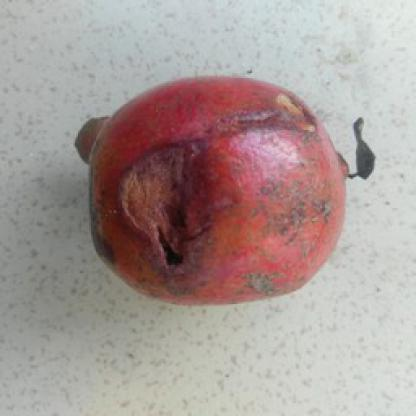pomegranate_rotten: (72, 70, 376, 306)
